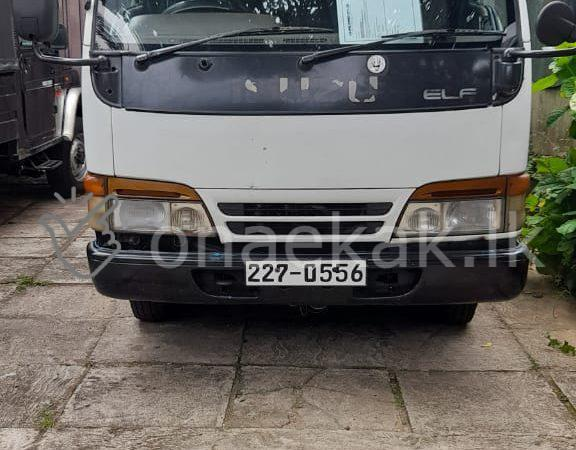truck: (13, 1, 576, 328)
